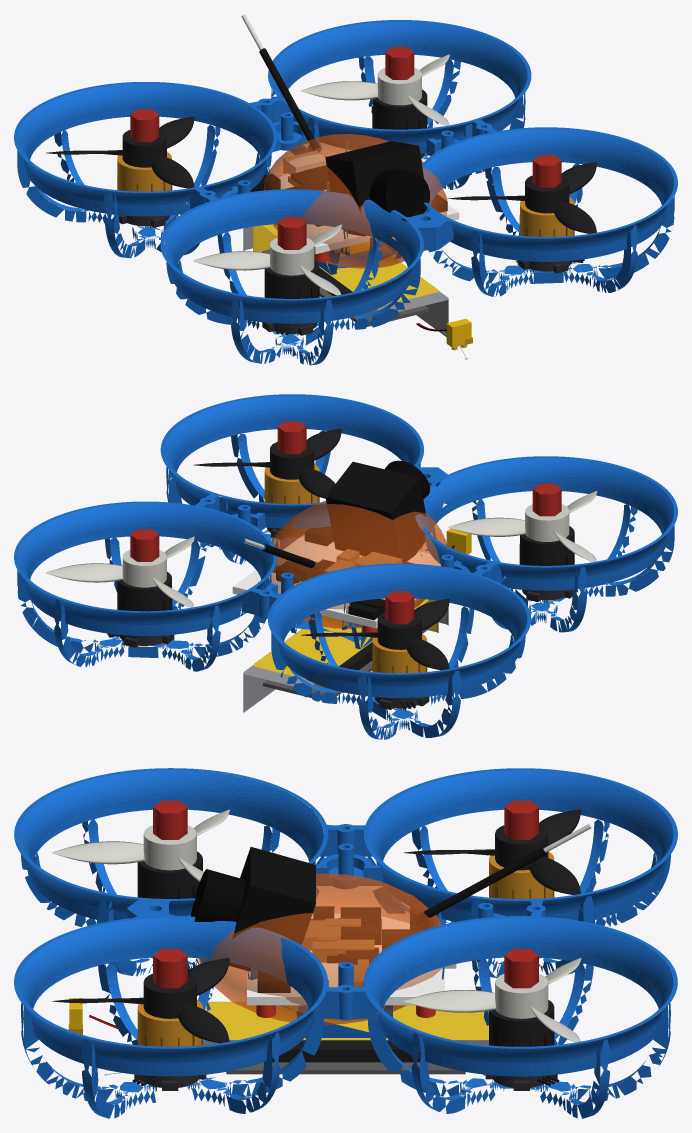
The model's file is whoop65_src.glb.
3 views of the same model, one above another, from view 1: azimuth 30°, elevation 25°; view 2: azimuth 150°, elevation 25°; view 3: azimuth 270°, elevation 25° (orthographic). The views are drawn at different scales.
Visible parts, largest first — view 1: meteor65__m0, _MeshInstance3D_237, _MeshInstance3D_238, _MeshInstance3D_243, _MeshInstance3D_239, _MeshInstance3D_242, _MeshInstance3D_166, _MeshInstance3D_208, _MeshInstance3D_94, _MeshInstance3D_130, _MeshInstance3D_202, _MeshInstance3D_169 (+16 smaller); view 2: meteor65__m0, _MeshInstance3D_237, _MeshInstance3D_238, _MeshInstance3D_243, _MeshInstance3D_208, _MeshInstance3D_242, _MeshInstance3D_166, _MeshInstance3D_94, _MeshInstance3D_130, _MeshInstance3D_202, _MeshInstance3D_96, _MeshInstance3D_168 (+14 smaller); view 3: meteor65__m0, _MeshInstance3D_237, _MeshInstance3D_238, _MeshInstance3D_243, _MeshInstance3D_208, _MeshInstance3D_239, _MeshInstance3D_244, _MeshInstance3D_245, _MeshInstance3D_94, _MeshInstance3D_166, _MeshInstance3D_130, _MeshInstance3D_167 (+22 smaller).
Boxes of the visible parts, x1,y1,x2,y2 form: meteor65__m0: (14, 20, 677, 365); _MeshInstance3D_237: (264, 134, 447, 268); _MeshInstance3D_238: (325, 141, 423, 236); _MeshInstance3D_243: (253, 224, 438, 304); _MeshInstance3D_239: (369, 168, 429, 221); _MeshInstance3D_242: (243, 226, 448, 336); _MeshInstance3D_166: (270, 237, 314, 275); _MeshInstance3D_208: (275, 173, 459, 254); _MeshInstance3D_94: (377, 67, 421, 105); _MeshInstance3D_130: (525, 175, 569, 213); _MeshInstance3D_202: (122, 130, 166, 167); _MeshInstance3D_169: (193, 251, 270, 270); meteor65__m0: (14, 394, 677, 739); _MeshInstance3D_237: (268, 500, 446, 628); _MeshInstance3D_238: (325, 461, 426, 561); _MeshInstance3D_243: (253, 599, 438, 705); _MeshInstance3D_208: (232, 535, 440, 628); _MeshInstance3D_242: (243, 607, 448, 712); _MeshInstance3D_166: (525, 504, 569, 541); _MeshInstance3D_94: (122, 550, 166, 587); _MeshInstance3D_130: (270, 442, 314, 479); _MeshInstance3D_202: (377, 612, 421, 649); _MeshInstance3D_96: (46, 563, 123, 582); _MeshInstance3D_168: (448, 517, 525, 536); meteor65__m0: (14, 768, 677, 1118); _MeshInstance3D_237: (198, 873, 442, 1024); _MeshInstance3D_238: (229, 847, 315, 971); _MeshInstance3D_243: (203, 1001, 488, 1039); _MeshInstance3D_208: (247, 913, 444, 1005); _MeshInstance3D_239: (190, 869, 244, 921); _MeshInstance3D_244: (272, 1040, 420, 1062); _MeshInstance3D_245: (226, 1040, 465, 1074); _MeshInstance3D_94: (495, 973, 548, 1018); _MeshInstance3D_166: (143, 825, 196, 870); _MeshInstance3D_130: (143, 973, 196, 1018); _MeshInstance3D_167: (52, 841, 144, 864).
Size of the model in its own units: 0.0873 by 0.0358 by 0.0873.
